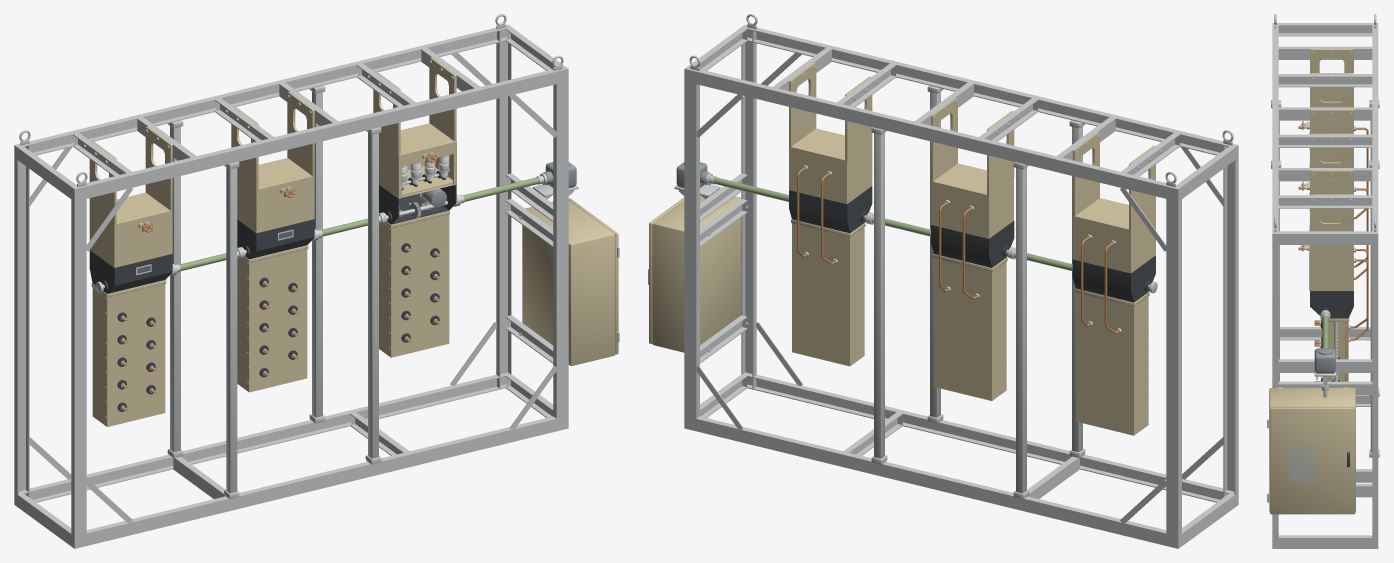
The picture shows the model from 3 angles, left to right: view 1: azimuth 30°, elevation 25°; view 2: azimuth 150°, elevation 25°; view 3: azimuth 270°, elevation 25°; orthographic projection. The views are drawn at different scales.
Visible parts, largest first — view 1: cz-frame, cz-board, cz-pole, cz-box, mdu, cz-plate, cz-mech, sel-terminal, cz-hshaft, vi; view 2: cz-frame, cz-board, cz-box, cz-pole, mdu, cz-mech, cz-plate, cz-lead, cz-hshaft; view 3: cz-frame, mdu, cz-plate, cz-box, cz-pole, cz-mech, cz-board, cz-lead, bevel, cz-hshaft, out-term, cz-screw.
Boxes of the visible parts, x1=… form: cz-frame: x1=14, y1=14, x2=578, y2=548; cz-board: x1=91, y1=210, x2=449, y2=426; cz-pole: x1=167, y1=85, x2=381, y2=498; cz-box: x1=89, y1=123, x2=456, y2=267; mdu: x1=519, y1=198, x2=619, y2=365; cz-plate: x1=89, y1=57, x2=456, y2=225; cz-mech: x1=89, y1=184, x2=456, y2=293; sel-terminal: x1=117, y1=243, x2=440, y2=411; cz-hshaft: x1=95, y1=173, x2=547, y2=293; vi: x1=402, y1=155, x2=449, y2=188; cz-frame: x1=674, y1=14, x2=1238, y2=548; cz-board: x1=791, y1=219, x2=1149, y2=435; cz-box: x1=789, y1=128, x2=1155, y2=273; cz-pole: x1=871, y1=85, x2=1085, y2=498; mdu: x1=648, y1=192, x2=748, y2=352; cz-mech: x1=789, y1=186, x2=1155, y2=302; cz-plate: x1=789, y1=62, x2=1155, y2=231; cz-lead: x1=797, y1=165, x2=1121, y2=334; cz-hshaft: x1=705, y1=173, x2=1157, y2=293; cz-frame: x1=1272, y1=14, x2=1378, y2=548; mdu: x1=1267, y1=387, x2=1355, y2=514; cz-plate: x1=1310, y1=49, x2=1353, y2=254; cz-box: x1=1309, y1=131, x2=1353, y2=290; cz-pole: x1=1271, y1=100, x2=1379, y2=457; cz-mech: x1=1309, y1=158, x2=1353, y2=318; cz-board: x1=1323, y1=317, x2=1349, y2=381; cz-lead: x1=1348, y1=126, x2=1368, y2=341; bevel: x1=1314, y1=348, x2=1335, y2=373; cz-hshaft: x1=1320, y1=310, x2=1330, y2=347; out-term: x1=1298, y1=121, x2=1309, y2=251; cz-screw: x1=1334, y1=322, x2=1337, y2=381.
Bounding box in the file's own units: 3.66 × 2.39 × 0.7431.
